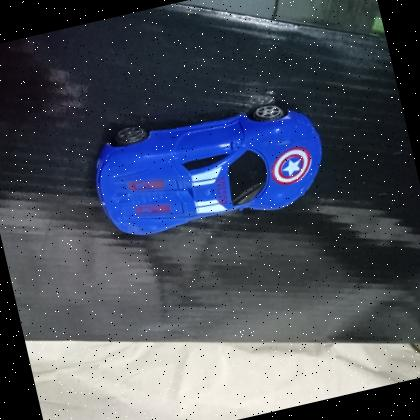Car: (78, 79, 342, 257)
